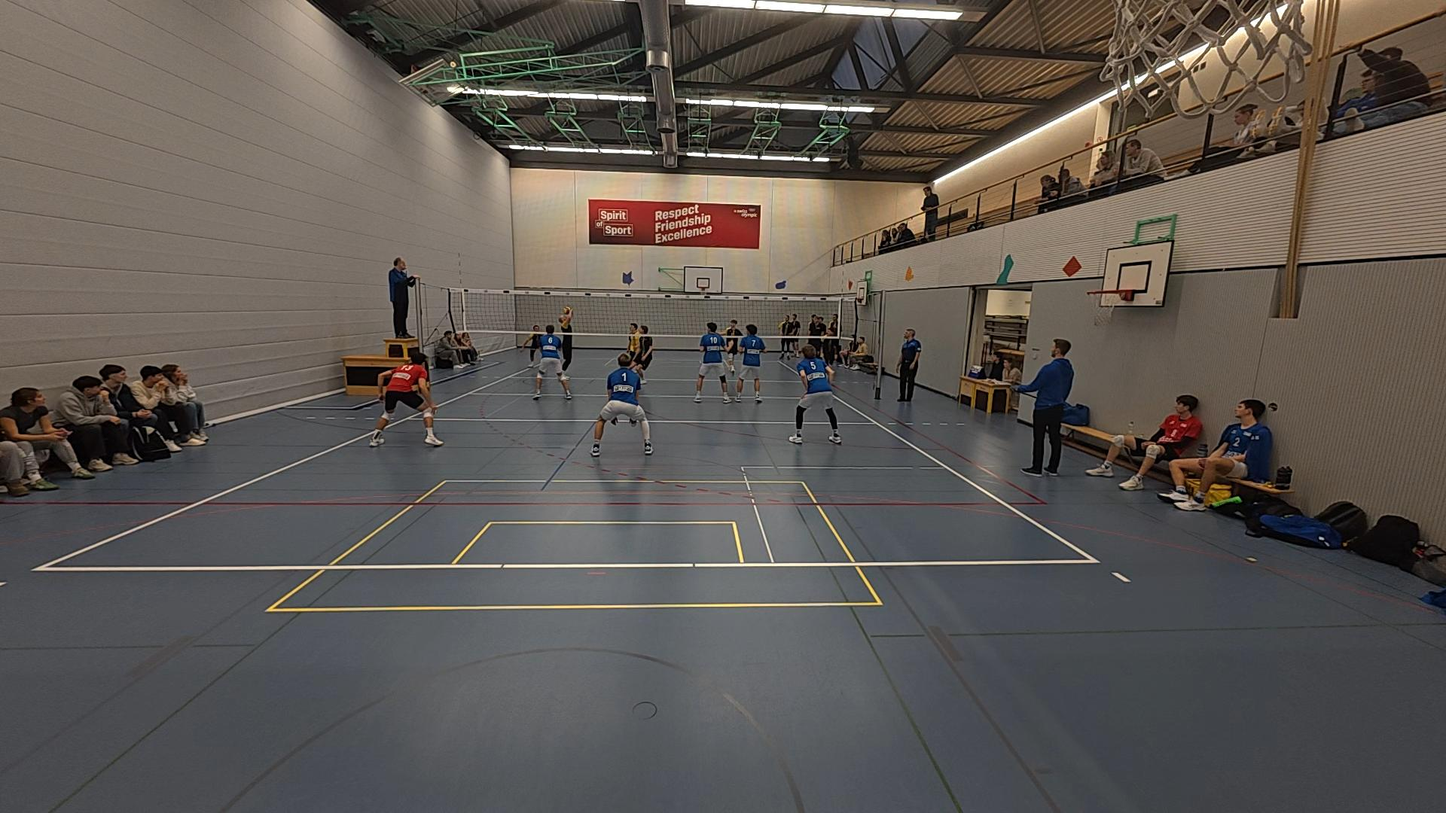Player: (371, 350, 443, 447), (590, 352, 654, 457), (789, 349, 841, 445), (696, 322, 735, 403), (532, 324, 572, 400), (732, 323, 767, 405), (715, 317, 746, 374), (631, 322, 655, 386), (517, 322, 546, 368), (621, 318, 640, 384), (821, 329, 838, 375)
Set: (555, 307, 574, 382)
ball: (561, 306, 574, 320)
